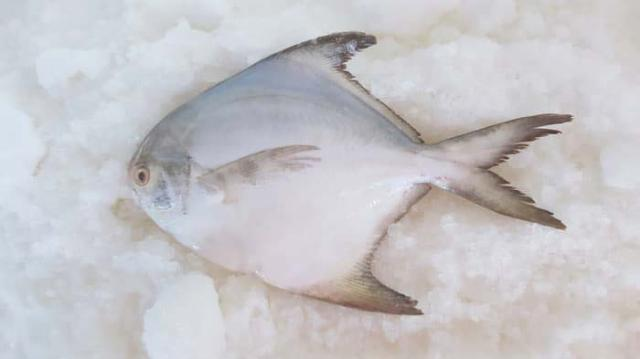Sirip Anal: (356, 178, 436, 262)
Sirip Dada: (186, 138, 330, 216)
Sirip Ekor: (431, 106, 583, 234)
Sirip Perut: (288, 264, 436, 328)
Sirip Punggung: (267, 22, 427, 148)
